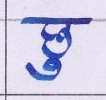u_matra: (26, 59, 65, 81)
